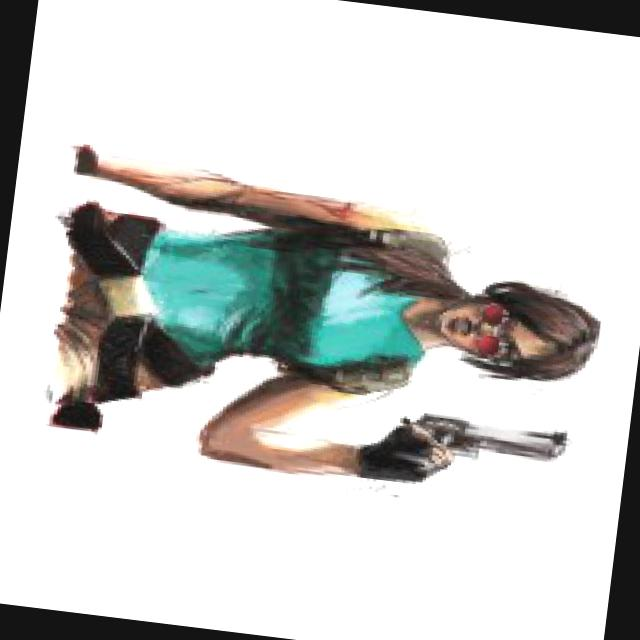handgun: (384, 386, 578, 513)
